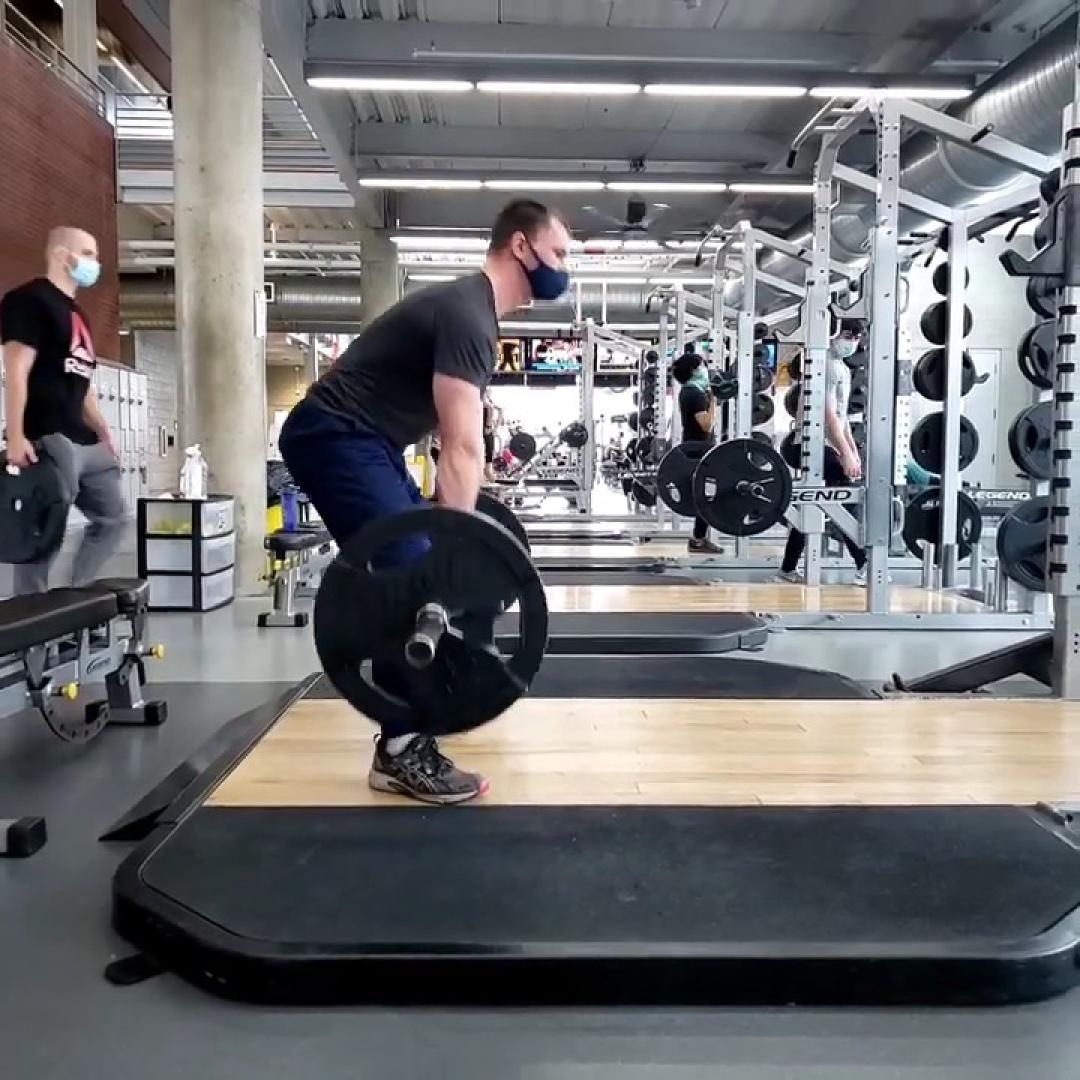Bar: (405, 636, 437, 668)
Barbell: (314, 508, 548, 733)
